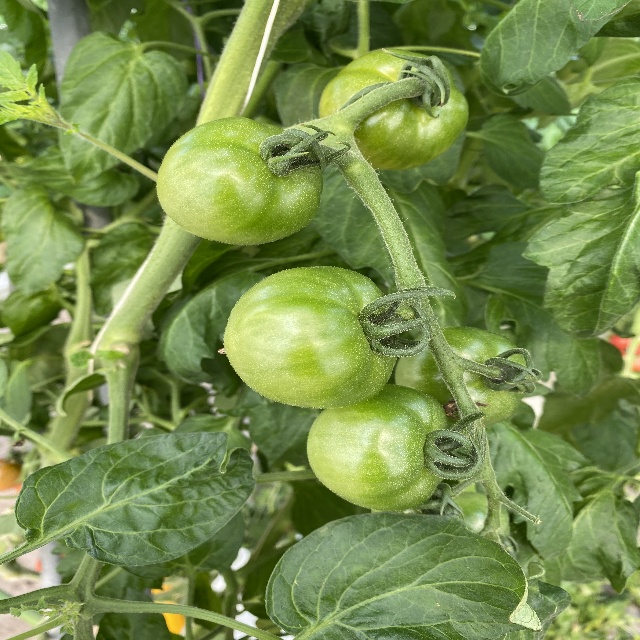l_green: (225, 266, 400, 410), (156, 117, 323, 246), (319, 48, 469, 169), (307, 384, 449, 511), (395, 326, 532, 426)
